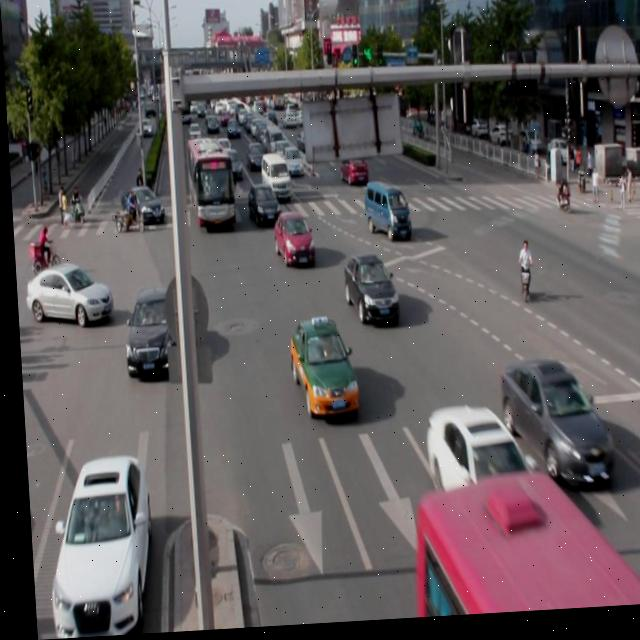car: (38, 450, 150, 639), (496, 362, 608, 496), (420, 403, 531, 537), (285, 317, 353, 419), (118, 283, 179, 384), (339, 255, 395, 329), (270, 212, 312, 269), (245, 182, 278, 227)
truck: (360, 183, 409, 243)
van: (404, 476, 640, 622)
